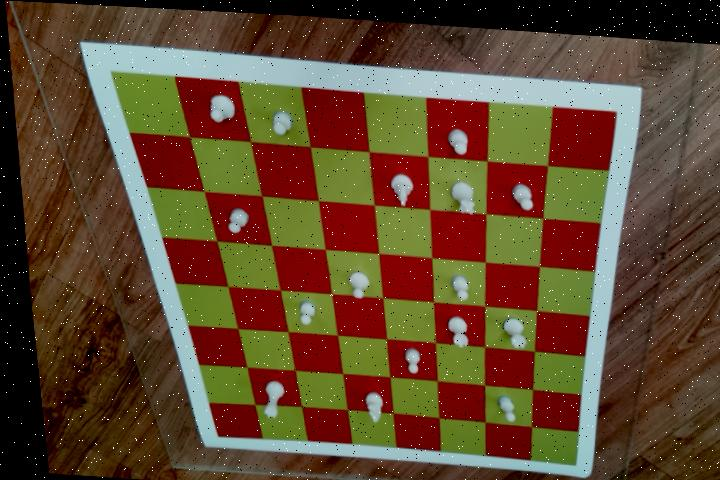chessboard-detect: (108, 70, 615, 459)
